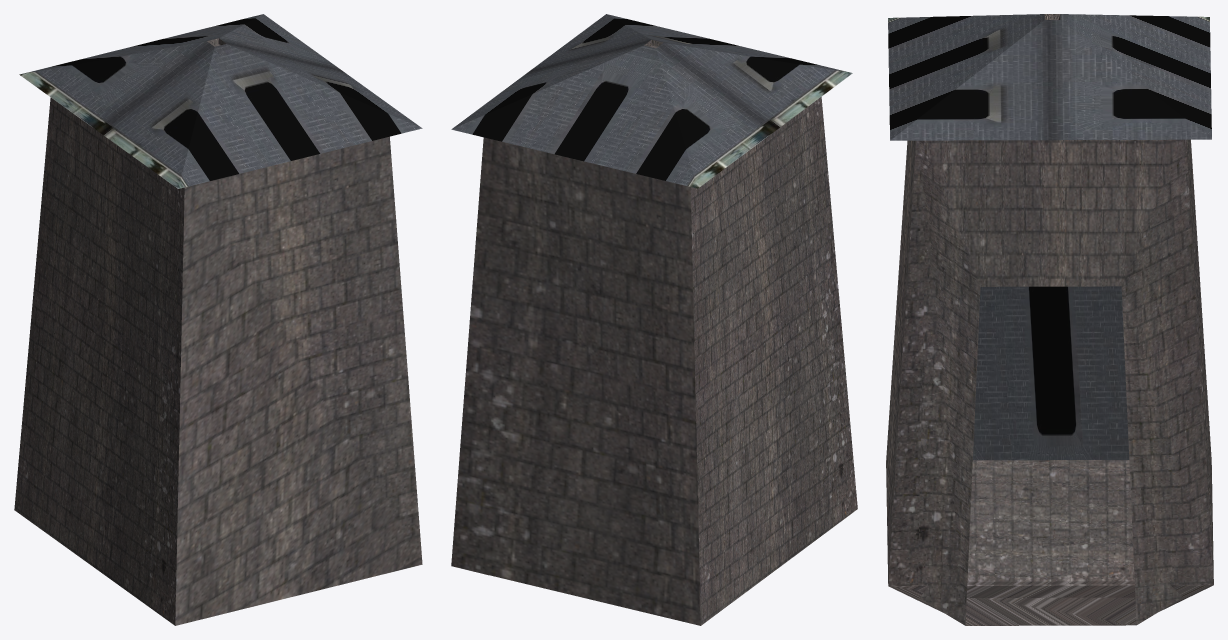
Rendered from gate_building.glb.
The picture shows the model from 3 angles, left to right: view 1: azimuth 30°, elevation 25°; view 2: azimuth 150°, elevation 25°; view 3: azimuth 270°, elevation 25°; orthographic projection. The views are drawn at different scales.
Visible parts, largest first — view 1: Cube.017; view 2: Cube.017; view 3: Cube.017.
Part boxes in pixels (x1,y1,x2,y2): Cube.017: (14,14,422,625); Cube.017: (451,14,857,625); Cube.017: (886,14,1213,625).
Bounding box in the file's own units: 2.3 × 4.6 × 2.51.
Materials: 2 (2 with a texture image).
